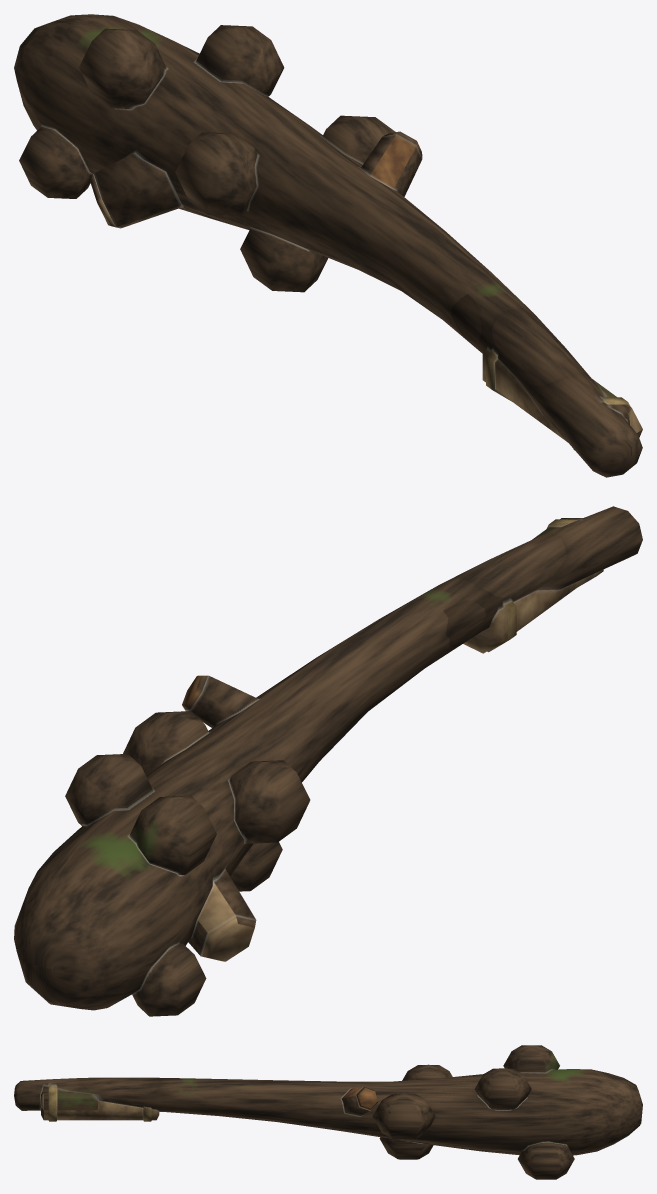
The model's file is Prop_TrollClub.fbx.
3 renders of one model, top to bottom at view 1: azimuth 30°, elevation 25°; view 2: azimuth 150°, elevation 25°; view 3: azimuth 270°, elevation 25°, orthographic. The views are drawn at different scales.
Parts seen in each view (by area): view 1: Prop_TrollClub; view 2: Prop_TrollClub; view 3: Prop_TrollClub.
Boxes of the visible parts, x1=… form: Prop_TrollClub: x1=14, y1=14, x2=642, y2=477; Prop_TrollClub: x1=14, y1=506, x2=642, y2=1016; Prop_TrollClub: x1=14, y1=1045, x2=642, y2=1179.
Size of the model in its own units: 0.2946 by 0.2662 by 1.39.
